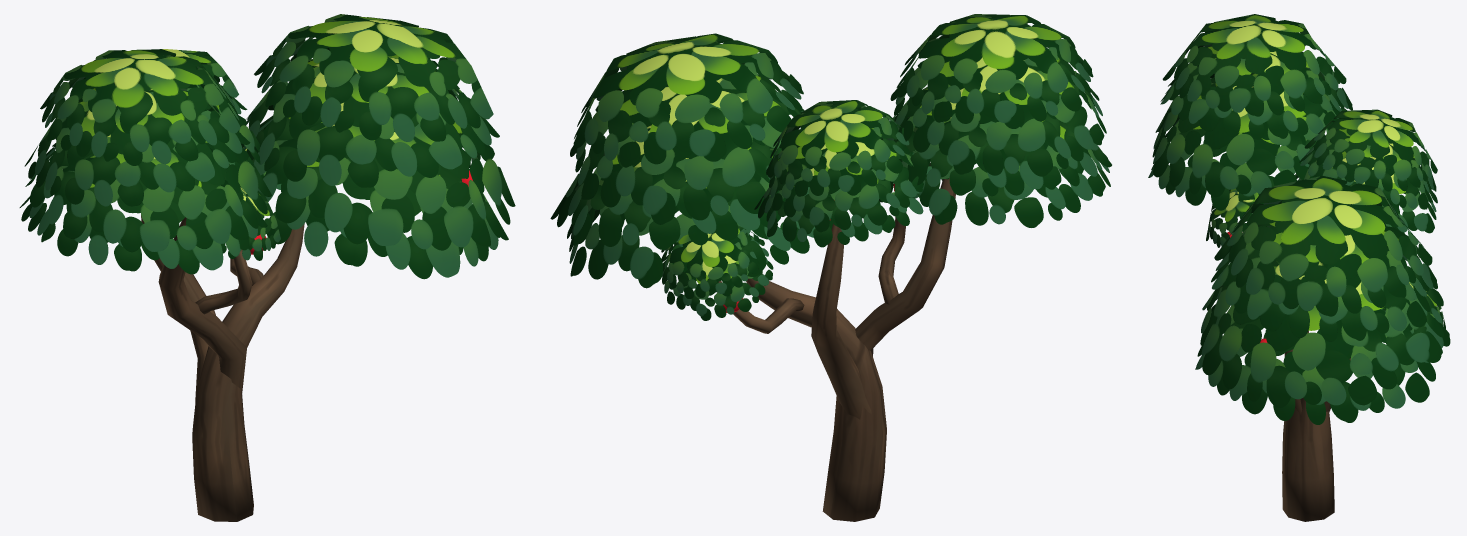
The model's file is TreeApple.fbx.
The picture shows the model from 3 angles, left to right: view 1: azimuth 30°, elevation 25°; view 2: azimuth 150°, elevation 25°; view 3: azimuth 270°, elevation 25°; orthographic projection. The views are drawn at different scales.
Visible parts, largest first — view 1: Leaf.004, Leaf, Leaf.006, Leaf.005, Leaf.002, Log1.006, Leaf.001, Leaf.007, Leaf.003, Branch1.006, Branch2.011, Leaf.013 (+2 smaller); view 2: Leaf.004, Leaf, Leaf.005, Leaf.001, Leaf.008, Log1.006, Leaf.006, Leaf.003, Leaf.009, Leaf.007, Leaf.002, Branch1.007 (+6 smaller); view 3: Leaf.004, Leaf.006, Leaf, Leaf.002, Leaf.005, Leaf.007, Leaf.008, Leaf.001, Log1.006, Leaf.003, Leaf.009, Leaf.013 (+1 smaller).
Boxes of the visible parts, x1,y1,x2,y2 form: Leaf.004: (254, 14, 493, 141); Leaf: (40, 49, 240, 165); Leaf.006: (243, 102, 515, 250); Leaf.005: (241, 55, 499, 187); Leaf.002: (25, 124, 272, 252); Log1.006: (192, 224, 304, 521); Leaf.001: (24, 84, 250, 206); Leaf.007: (262, 124, 508, 279); Leaf.003: (19, 148, 267, 274); Branch1.006: (158, 217, 246, 394); Branch2.011: (195, 249, 252, 314); Leaf.013: (221, 180, 280, 260); Leaf.004: (573, 33, 803, 167); Leaf: (896, 14, 1093, 128); Leaf.005: (570, 74, 804, 224); Leaf.001: (890, 54, 1106, 176); Leaf.008: (767, 100, 909, 196); Log1.006: (746, 274, 886, 521); Leaf.006: (550, 124, 809, 249); Leaf.003: (879, 117, 1110, 227); Leaf.009: (766, 128, 925, 232); Leaf.007: (567, 146, 832, 288); Leaf.002: (880, 87, 1111, 196); Branch1.007: (811, 224, 871, 419); Leaf.004: (1214, 175, 1432, 316); Leaf.006: (1200, 260, 1443, 407); Leaf: (1162, 14, 1346, 116); Leaf.002: (1152, 73, 1347, 197); Leaf.005: (1211, 222, 1437, 341); Leaf.007: (1195, 300, 1450, 424); Leaf.008: (1304, 109, 1437, 191); Leaf.001: (1160, 46, 1352, 139); Log1.006: (1282, 398, 1334, 521); Leaf.003: (1148, 110, 1328, 210); Leaf.009: (1299, 129, 1436, 209); Leaf.013: (1206, 188, 1263, 247).
Bounding box in the file's own units: 538 × 517 × 333.
